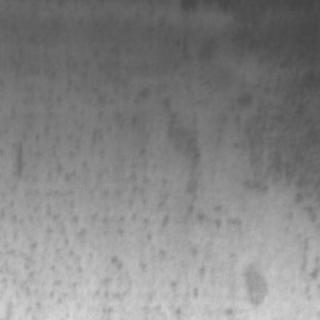pitted_surface: (1, 47, 316, 315)
